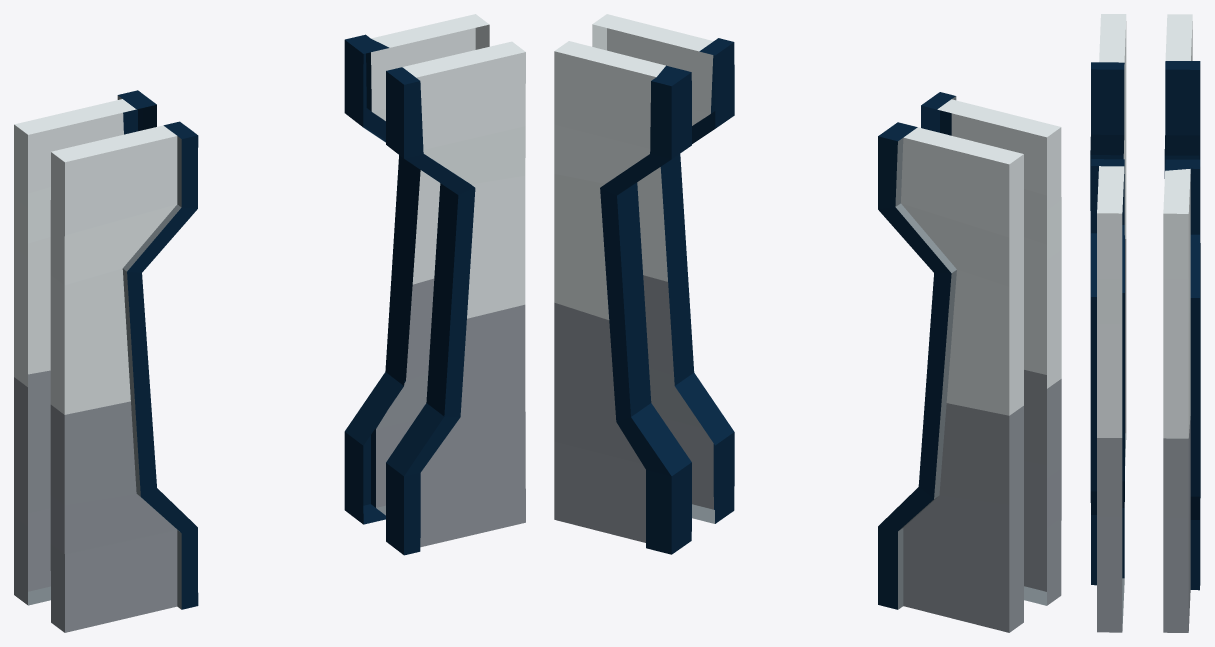
The model's file is door_sides.fbx.
The picture shows the model from 3 angles, left to right: view 1: azimuth 30°, elevation 25°; view 2: azimuth 150°, elevation 25°; view 3: azimuth 270°, elevation 25°; orthographic projection. The views are drawn at different scales.
Visible parts, largest first — view 1: door_sides; view 2: door_sides; view 3: door_sides.
Part boxes in pixels (bbox=[...]): door_sides: bbox=[14, 14, 525, 632]; door_sides: bbox=[554, 14, 1061, 632]; door_sides: bbox=[1090, 14, 1200, 632].
Bounding box in the file's own units: 1147 × 1121 × 267.
